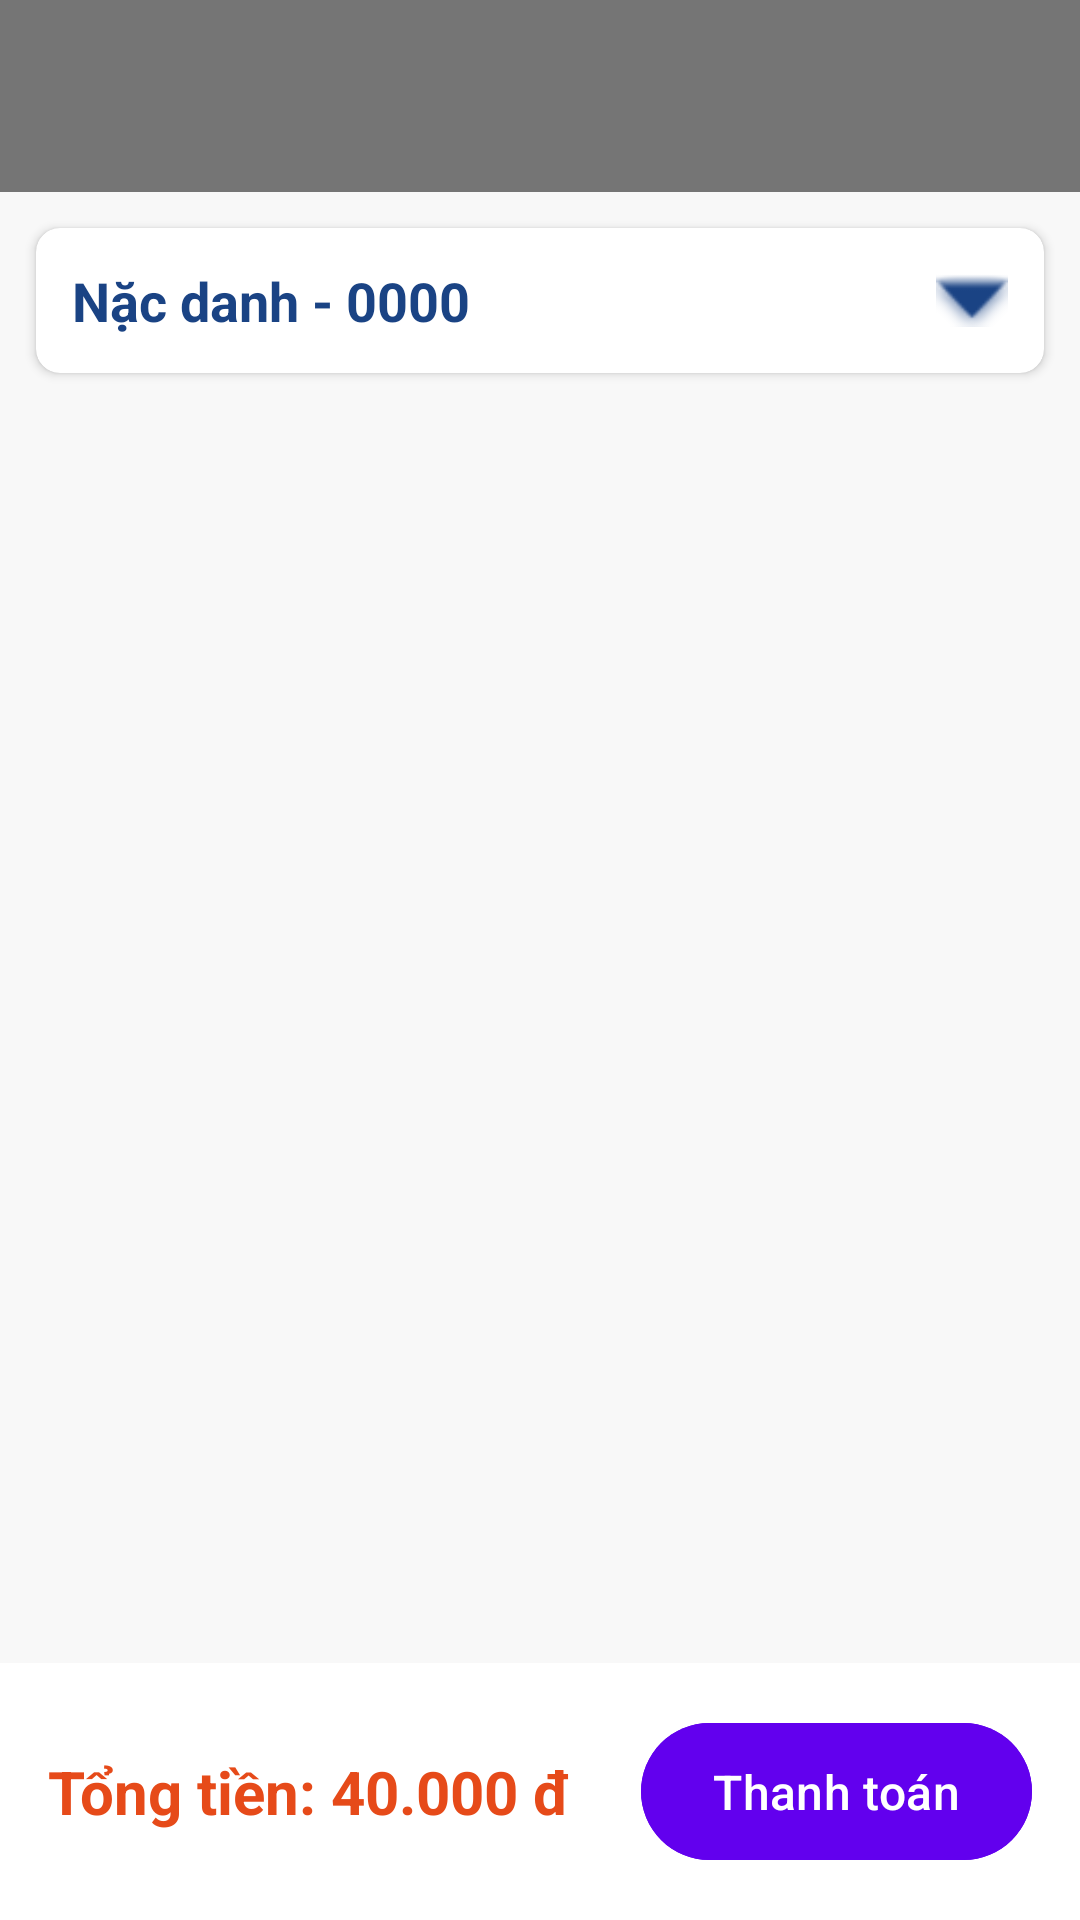

Screen size 1080px×1920px. Icon name, then its box in pixels as (x1, y1, x2, y2):
arrow down float: (936, 276, 1008, 325)
